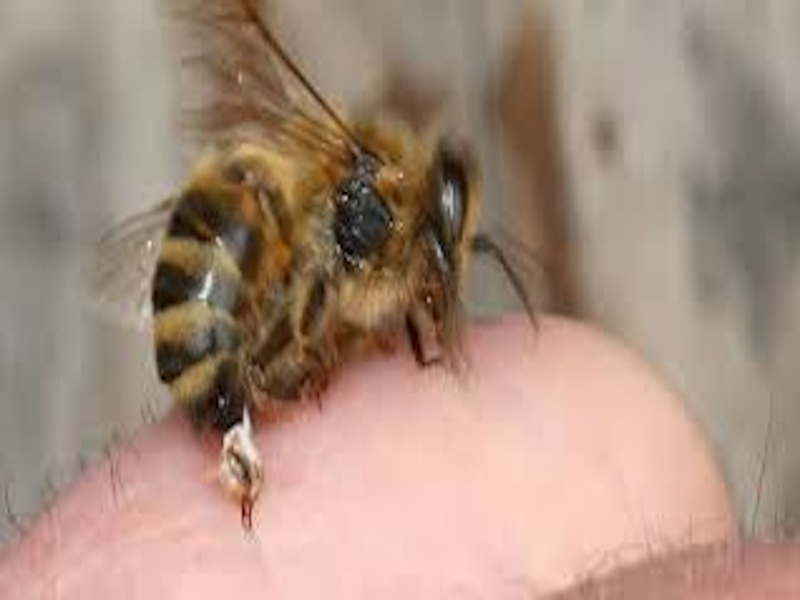abeja: (106, 1, 553, 520)
